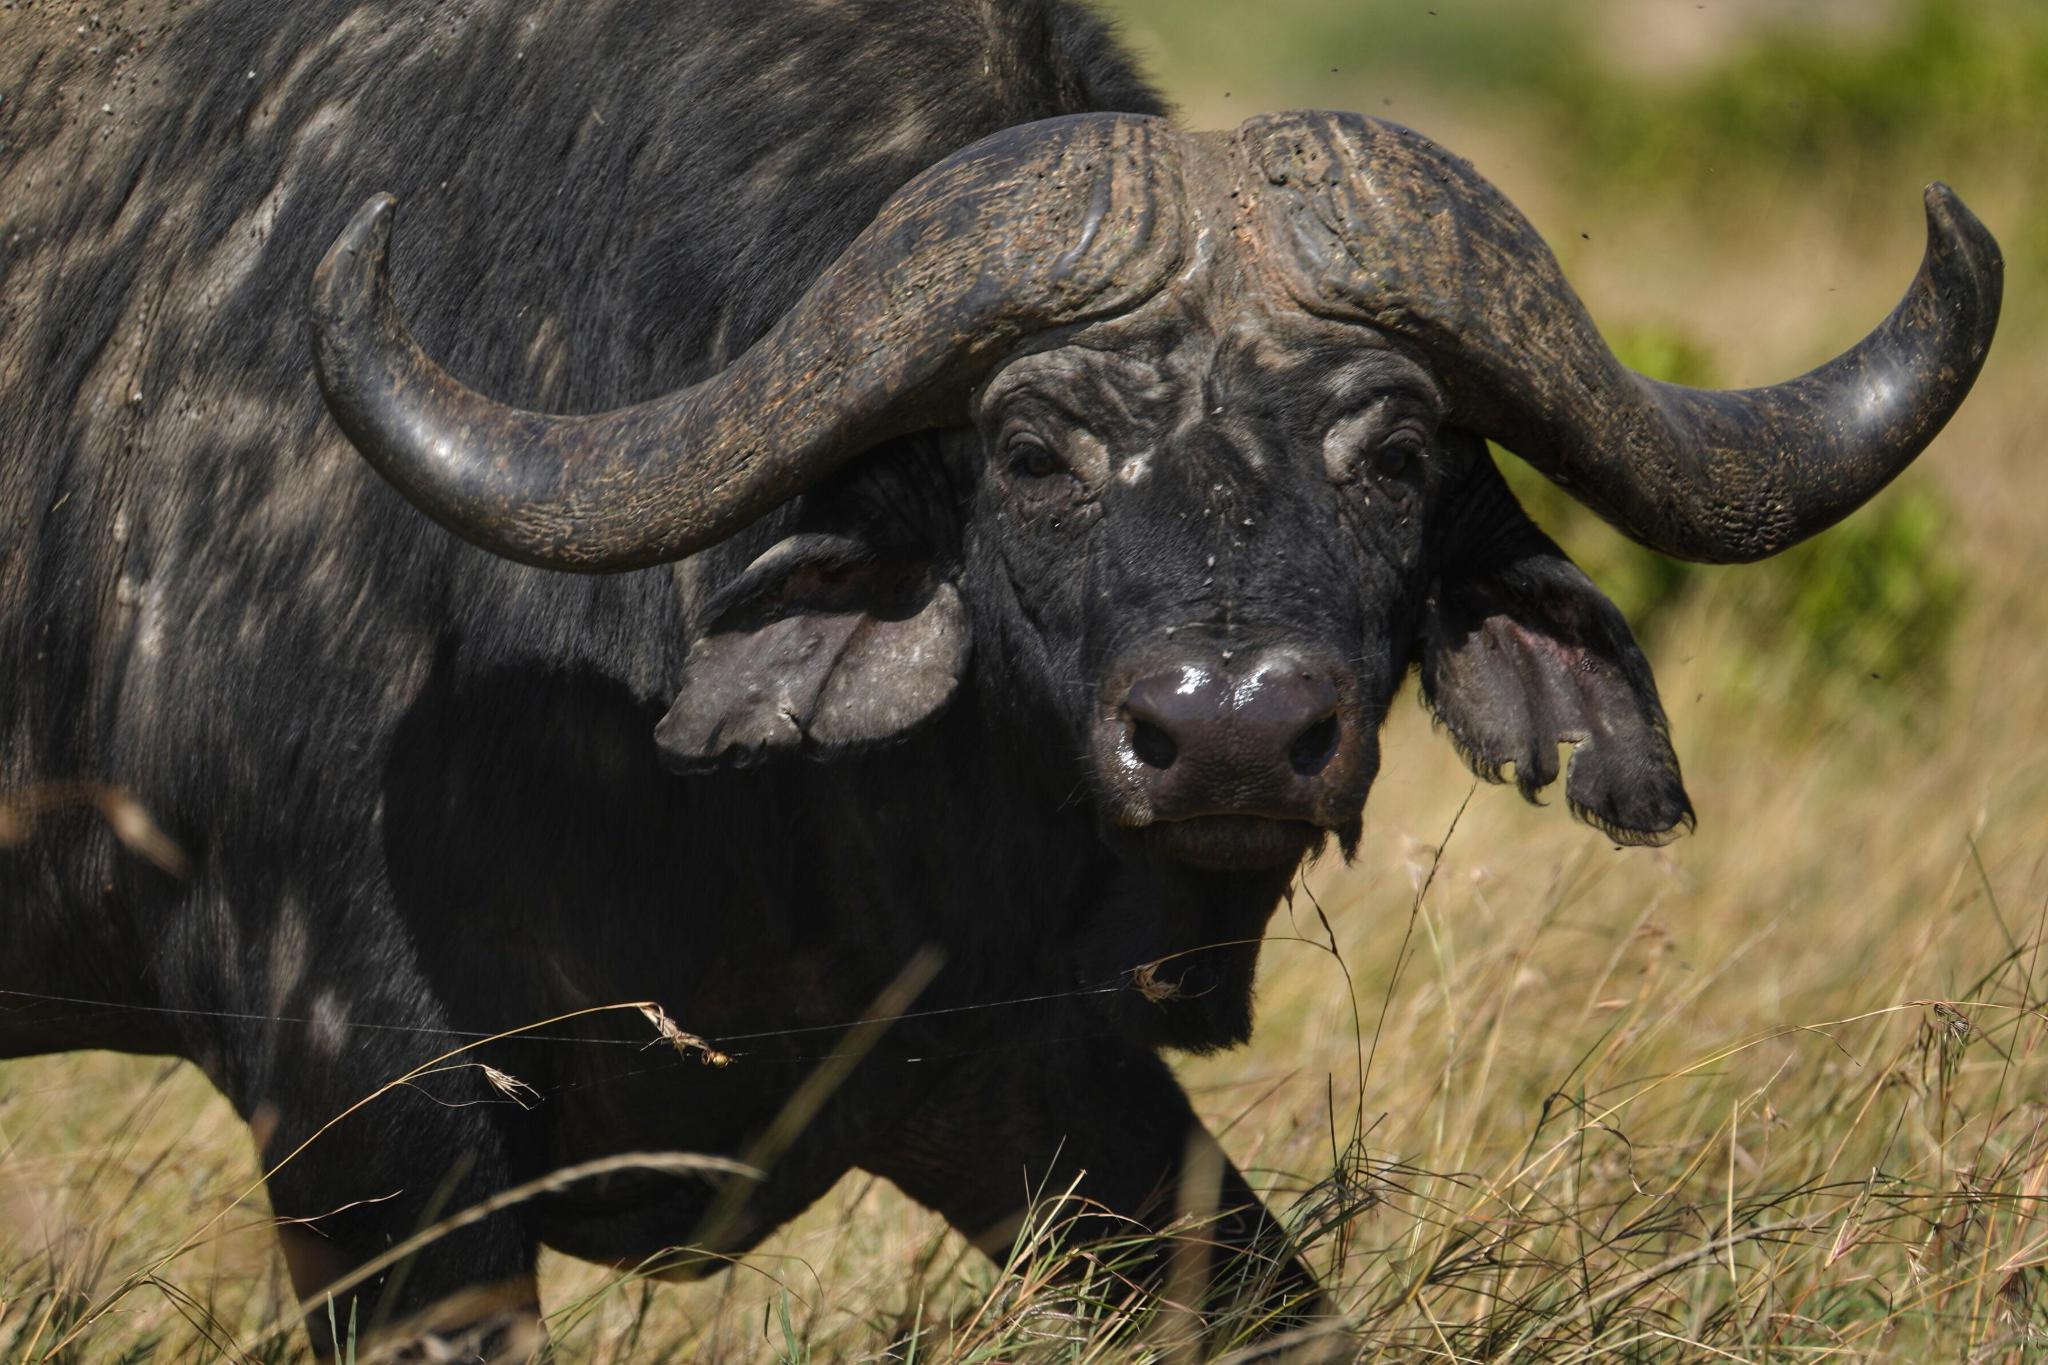Buffalo: (5, 3, 2027, 1365)
